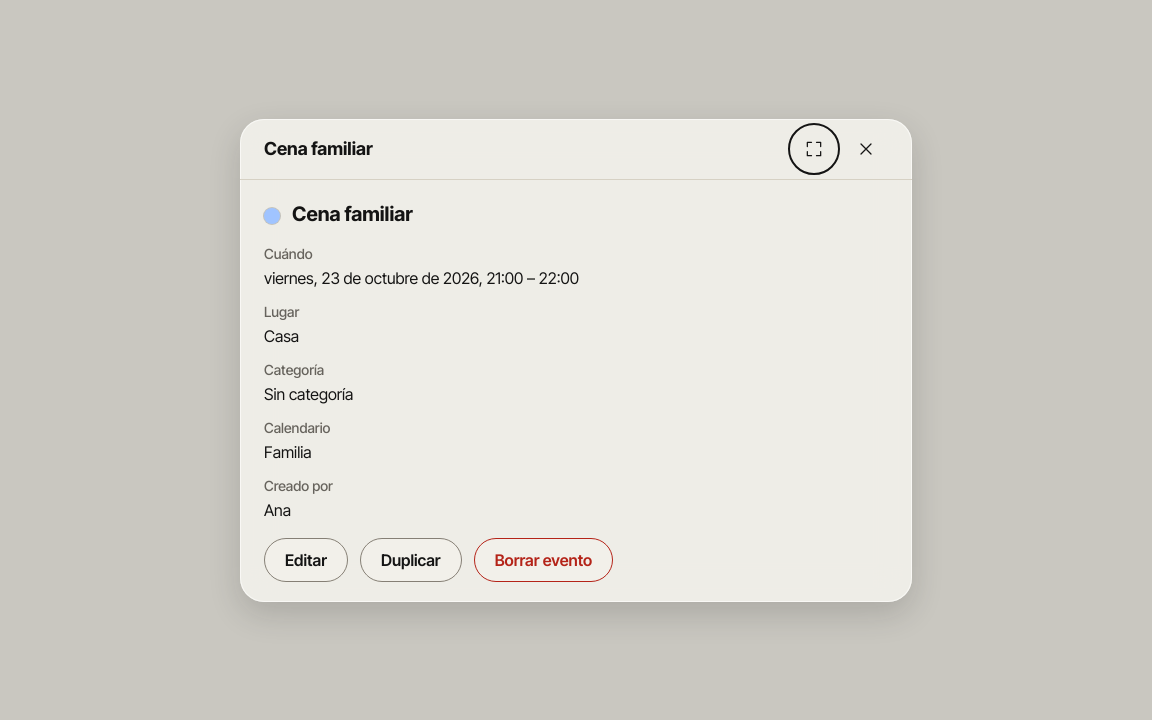
Test: EventPanel › closes the window and says so after deleting there
The width and height of the screenshot is (1152, 720).
Click the button "Borrar evento". click: click(543, 560)
box: 474,538 -> 613,582
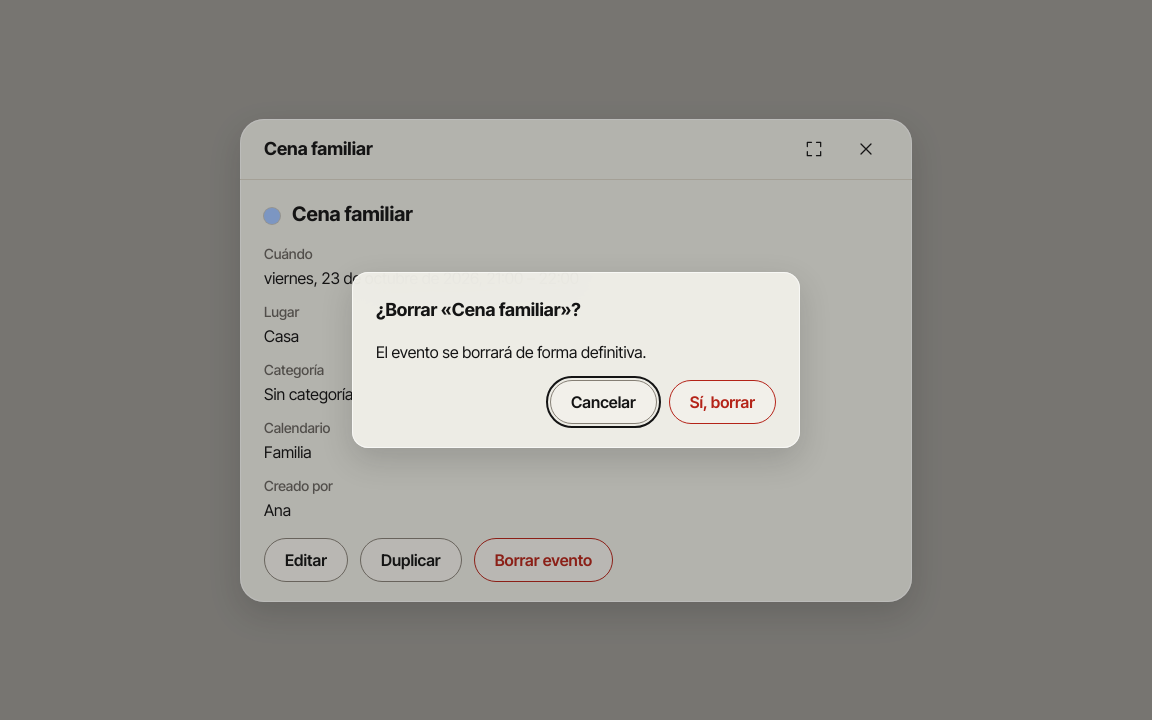
Click the button "Sí, borrar". click: click(722, 402)
box: 669,380 -> 776,424
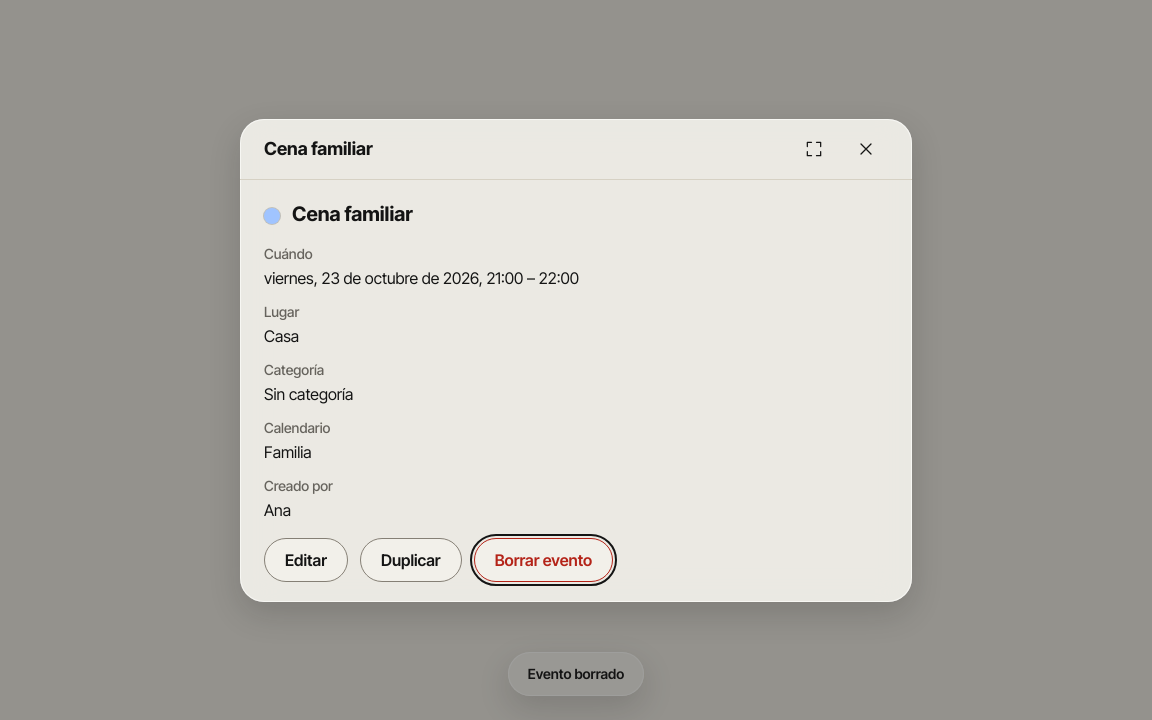
Expected: the text "Evento borrado" is shown, 508,652 -> 644,696
